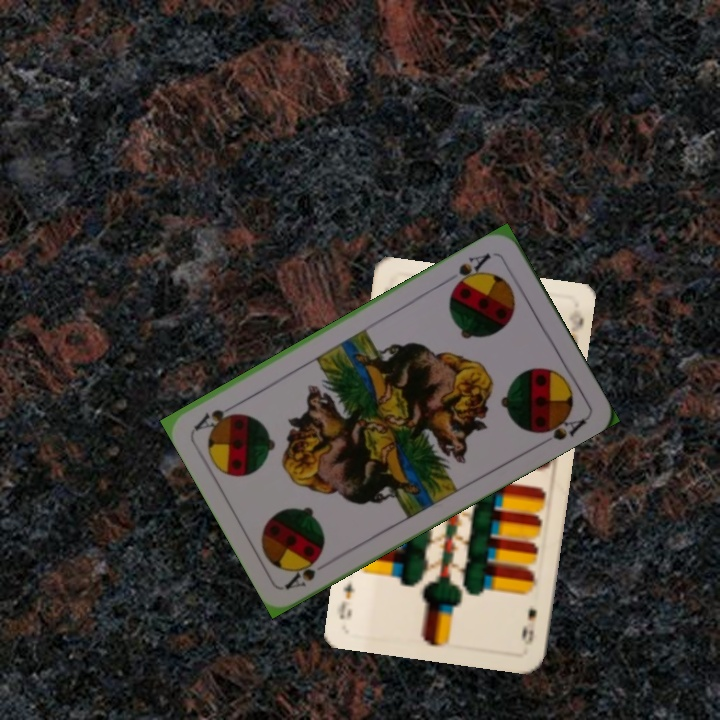E9: (517, 604, 540, 648)
SA: (448, 248, 494, 293), (282, 550, 325, 592)
